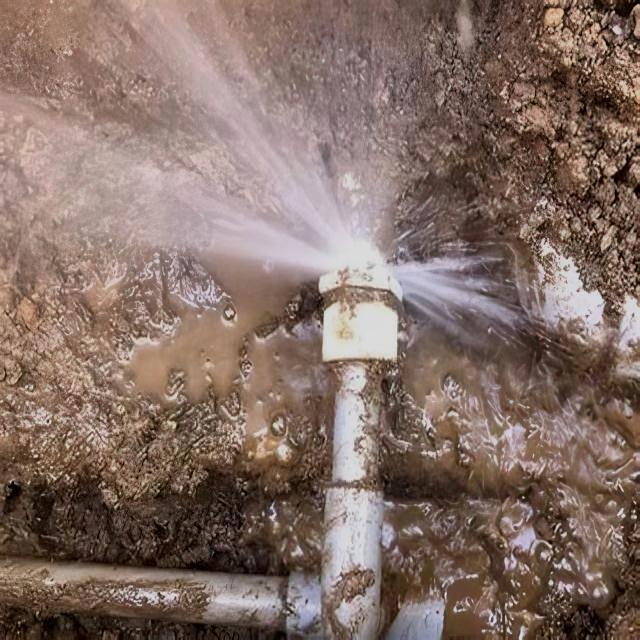Leak: (305, 225, 443, 302)
